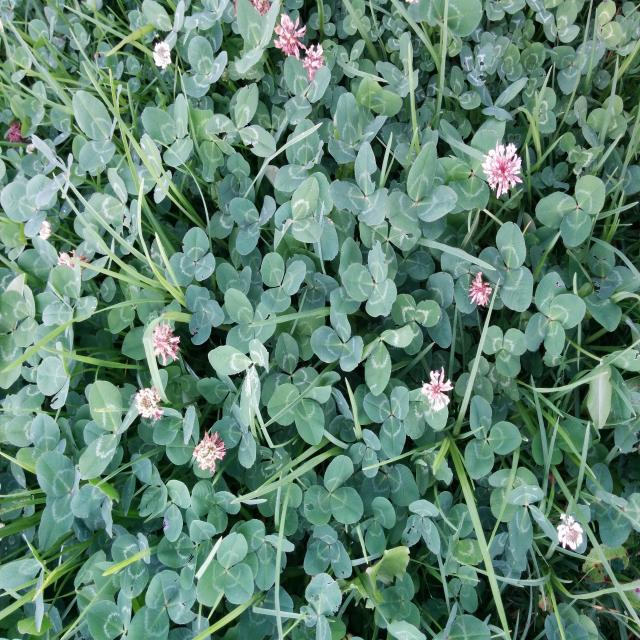Four Leaf Clover: (524, 272, 586, 357)
